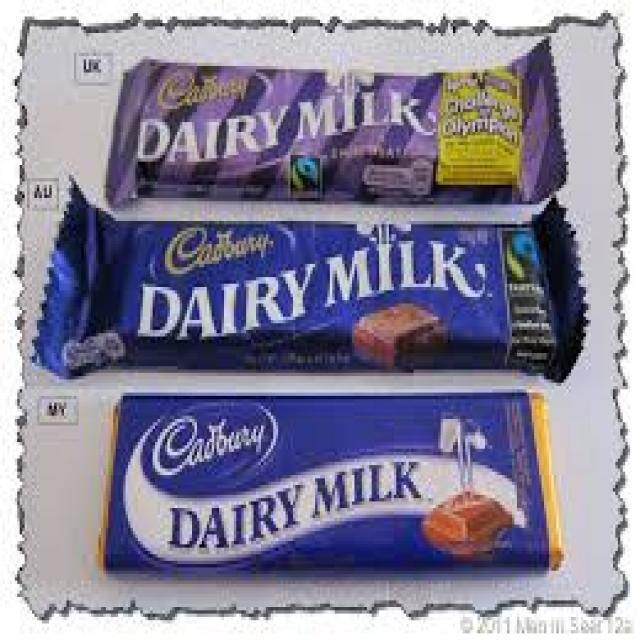cadbury: (43, 194, 591, 382), (105, 390, 565, 575), (114, 53, 566, 199)
